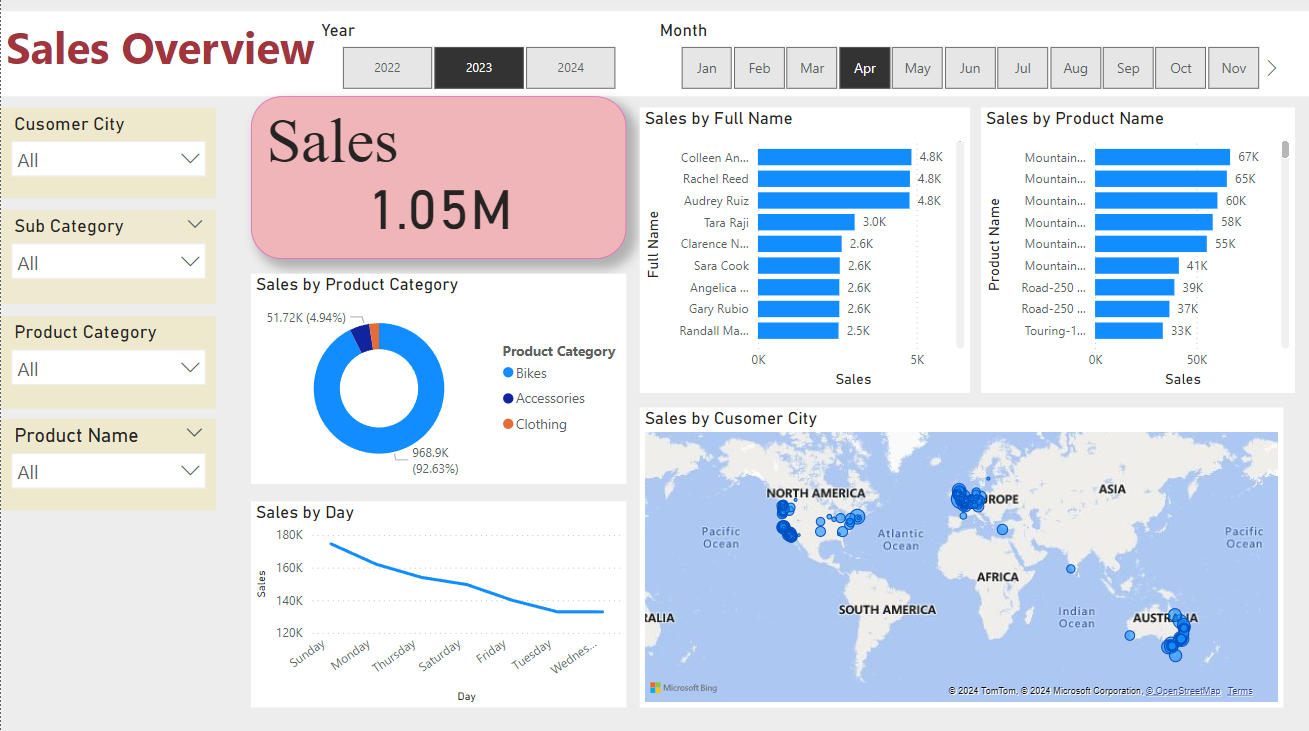

What the dashboard file says about the page in this screenshot:
{"tool":"powerbi","page":{"name":"Page 1","canvas":[1280,720],"ordinal":0},"visuals":[{"type":"textbox","box":[0,15.7,1280,82.9],"z":0},{"type":"slicer","fields":{"Values":["Customer.Cusomer City"]},"box":[0,110.1,210.3,89],"z":1000},{"type":"slicer","fields":{"Values":["product.Sub Category"]},"box":[0,210.3,210.3,91.7],"z":2000},{"type":"slicer","fields":{"Values":["product.Product Category"]},"box":[0,314.3,210.3,90.5],"z":3000},{"type":"slicer","fields":{"Values":["product.Product Name"]},"box":[0,414.5,210.3,89.3],"z":4000},{"type":"slicer","title":"Year","fields":{"Values":["Calender.CalendarYear"]},"box":[308.6,24.3,317.1,74.3],"z":5000},{"type":"slicer","title":"Month","fields":{"Values":["Calender.MonthShort"]},"box":[639.5,24.5,615.1,74.6],"z":6000},{"type":"card","title":"Sales","fields":{"Values":["FactInternetSales.Sales"]},"box":[244.6,99,366.8,159],"z":7000},{"type":"donutChart","fields":{"Y":["Key Measures.Sales"],"Category":["product.Product Category"]},"box":[244.6,272.7,366.8,205.4],"z":8000},{"type":"lineChart","fields":{"Y":["Key Measures.Sales"],"Category":["Calender.Day"]},"box":[244.6,495.2,366.8,201.8],"z":8001},{"type":"barChart","fields":{"Y":["Key Measures.Sales"],"Category":["Customer.Full Name"]},"box":[624.9,110.1,322.8,278.8],"z":8002},{"type":"barChart","fields":{"Y":["Key Measures.Sales"],"Category":["product.Product Name"]},"box":[958.7,110.1,306.9,278.8],"z":8003},{"type":"map","fields":{"Category":["Customer.Cusomer City"],"Size":["Key Measures.Sales"]},"box":[624.9,403.5,629.8,293.5],"z":8004}]}

Visuals, with their boxes in screenshot pixels (x1, y1, x2, y2), scaled from the page's 1280x720 canvas onto the 1309x731 screenshot:
textbox: x1=0, y1=16, x2=1308, y2=100
slicer - Customer.Cusomer City: x1=0, y1=112, x2=215, y2=202
slicer - product.Sub Category: x1=0, y1=214, x2=215, y2=307
slicer - product.Product Category: x1=0, y1=319, x2=215, y2=411
slicer - product.Product Name: x1=0, y1=421, x2=215, y2=511
"Year" slicer: x1=316, y1=25, x2=640, y2=100
"Month" slicer: x1=654, y1=25, x2=1283, y2=101
"Sales" card: x1=250, y1=101, x2=625, y2=262
donutChart - Key Measures.Sales x product.Product Category: x1=250, y1=277, x2=625, y2=485
lineChart - Key Measures.Sales x Calender.Day: x1=250, y1=503, x2=625, y2=708
barChart - Key Measures.Sales x Customer.Full Name: x1=639, y1=112, x2=969, y2=395
barChart - Key Measures.Sales x product.Product Name: x1=980, y1=112, x2=1294, y2=395
map - Customer.Cusomer City x Key Measures.Sales: x1=639, y1=410, x2=1283, y2=708
